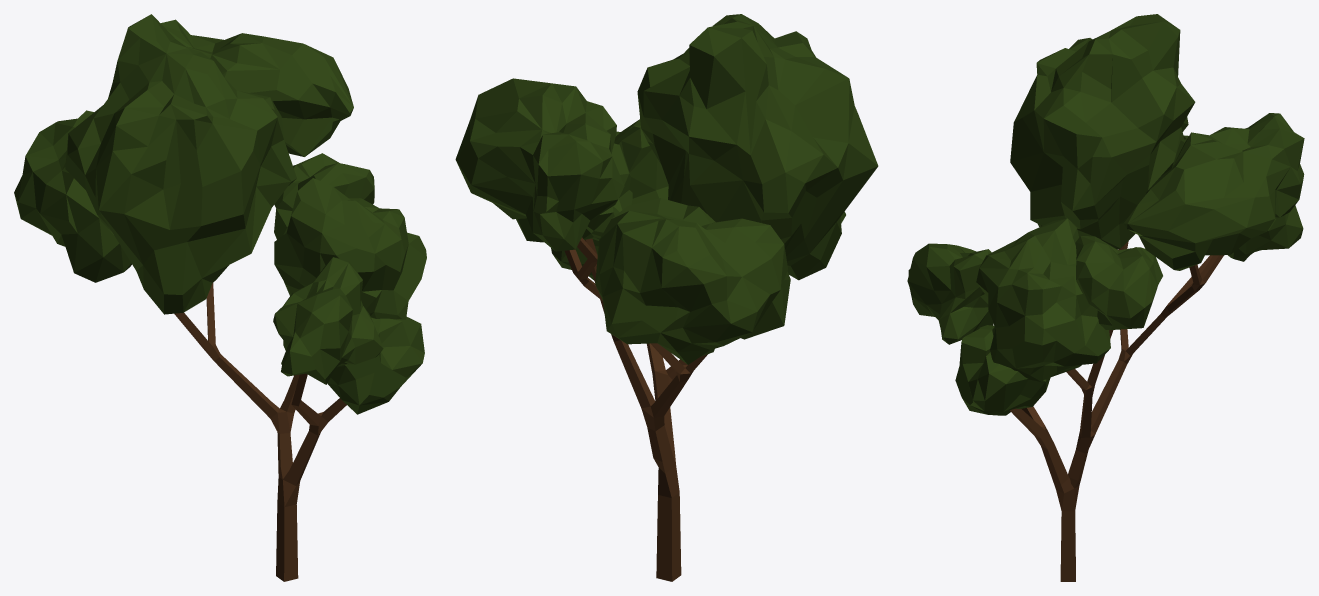
Rendered from tree1.fbx.
3 renders of one model, left to right at view 1: azimuth 30°, elevation 25°; view 2: azimuth 150°, elevation 25°; view 3: azimuth 270°, elevation 25°, orthographic. The views are drawn at different scales.
Parts seen in each view (by area): view 1: Crown.001, Trunk.001; view 2: Crown.001, Trunk.001; view 3: Crown.001, Trunk.001.
Part boxes in pixels (x1,y1,x2,y2): Crown.001: (14, 14, 426, 414); Trunk.001: (174, 283, 346, 581); Crown.001: (455, 14, 878, 364); Trunk.001: (564, 237, 707, 581); Crown.001: (907, 14, 1304, 415); Trunk.001: (1010, 241, 1223, 581).
Size of the model in its own units: 766 by 1280 by 890.
